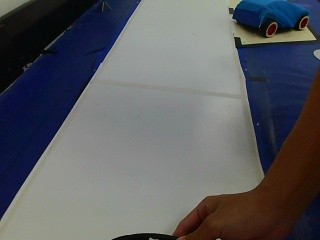car: (234, 1, 315, 39)
